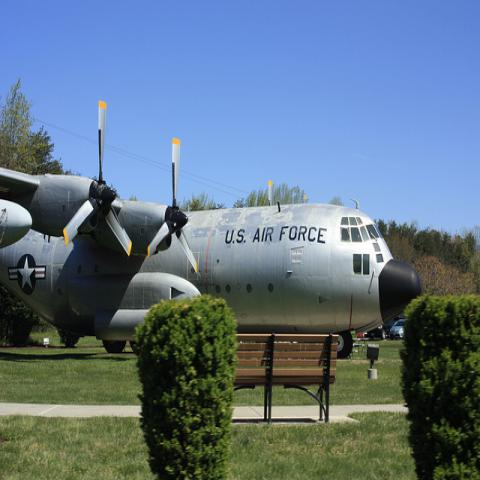car: (365, 315, 401, 340), (389, 318, 406, 341)
